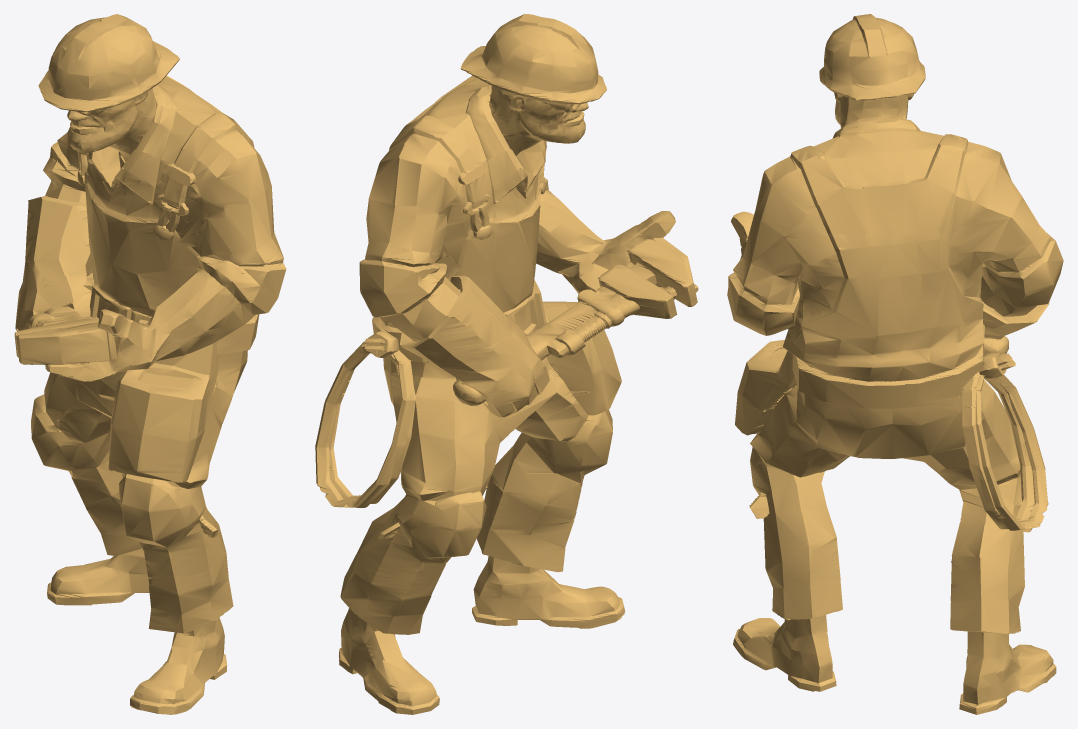
File: FigureEngineer.fbx
3 views of the same model, side by side, from view 1: azimuth 30°, elevation 25°; view 2: azimuth 150°, elevation 25°; view 3: azimuth 270°, elevation 25° (orthographic). The views are drawn at different scales.
Parts seen in each view (by area): view 1: Engineer; view 2: Engineer; view 3: Engineer.
Boxes of the visible parts, bbox=[...] form: Engineer: bbox=[14, 14, 286, 714]; Engineer: bbox=[315, 14, 698, 714]; Engineer: bbox=[727, 14, 1063, 714].
Size of the model in its own units: 21.42 by 46.76 by 22.7.
